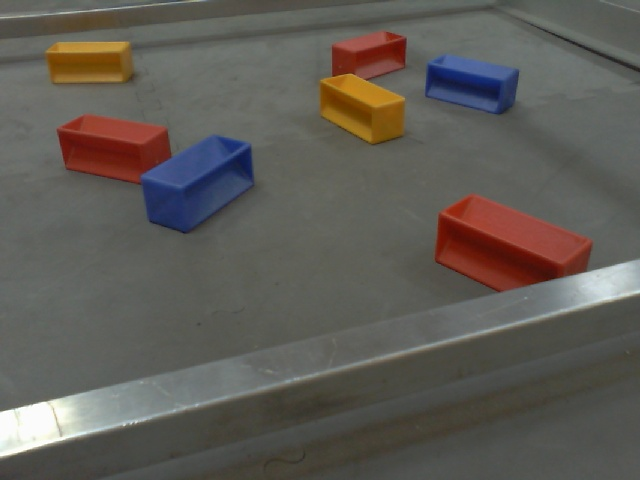BlueSample: (138, 129, 259, 237), (421, 52, 524, 117)
RedSample: (430, 190, 595, 301), (56, 108, 177, 188), (329, 29, 409, 83)
YellowSample: (314, 73, 410, 148), (44, 38, 136, 87)
